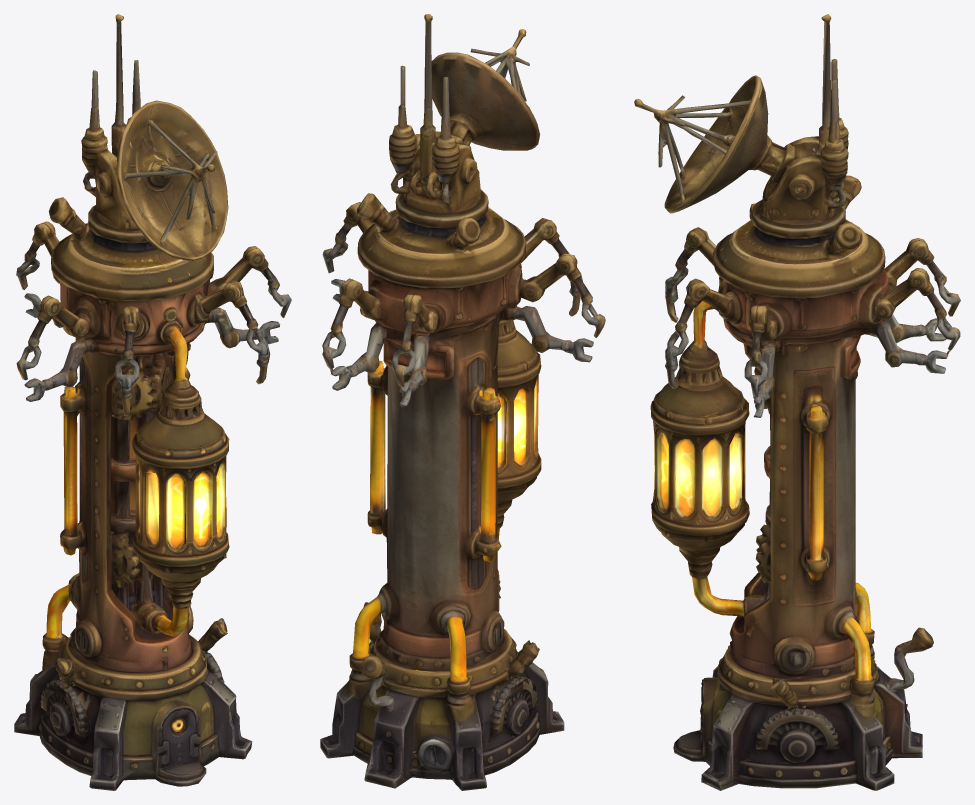
File: repairdrone_meshy_v01_prepared.fbx
The picture shows the model from 3 angles, left to right: view 1: azimuth 30°, elevation 25°; view 2: azimuth 150°, elevation 25°; view 3: azimuth 270°, elevation 25°; orthographic projection. The views are drawn at different scales.
Visible parts, largest first — view 1: Mesh1.0; view 2: Mesh1.0; view 3: Mesh1.0.
Part boxes in pixels (x1,y1,x2,y2): Mesh1.0: (14, 14, 291, 790); Mesh1.0: (320, 14, 605, 790); Mesh1.0: (634, 14, 960, 790).
Bounding box in the file's own units: 49.87 × 125 × 50.26.
